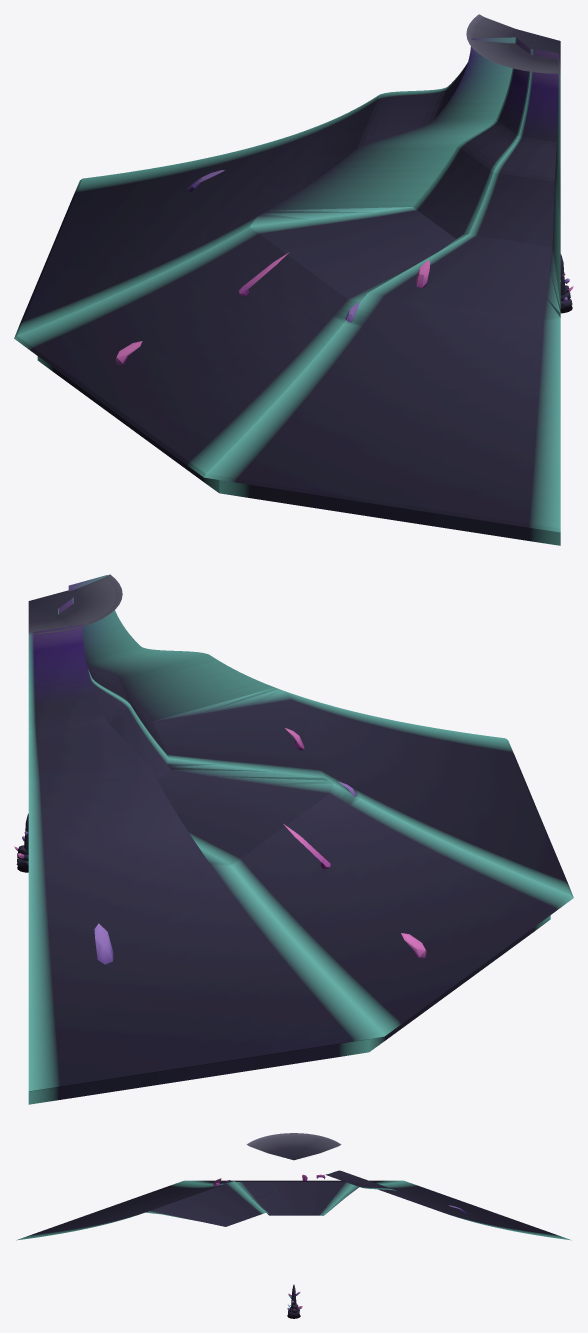
File: caverns-s3-D-ffY0m5.glb
3 views of the same model, one above another, from view 1: azimuth 30°, elevation 25°; view 2: azimuth 150°, elevation 25°; view 3: azimuth 270°, elevation 25° (orthographic). The views are drawn at different scales.
Visible parts, largest first — view 1: sc_landmark_1; view 2: sc_landmark_1; view 3: sc_landmark_1.
Boxes of the visible parts, <box> form: sc_landmark_1: <box>14,14,560,545</box>; sc_landmark_1: <box>28,574,573,1104</box>; sc_landmark_1: <box>16,1133,571,1240</box>.
Bounding box in the file's own units: 416 × 245 × 744.
